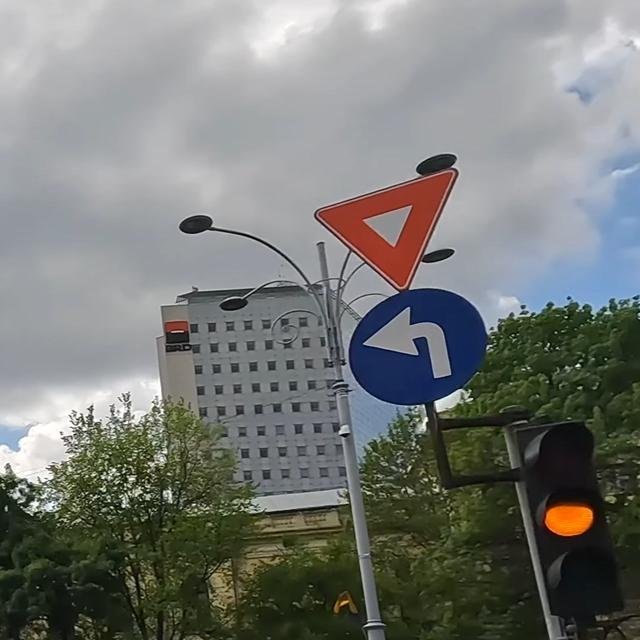prio_give_way: (311, 163, 460, 291)
